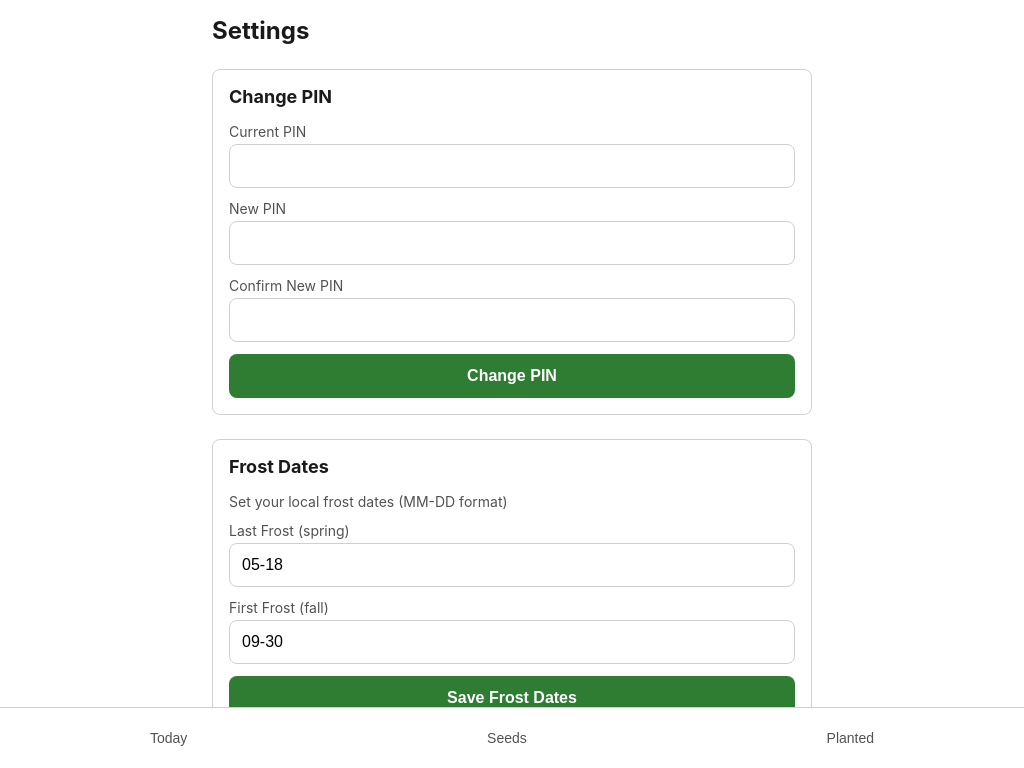
Settings page › rejects PIN change when new PINs don't match
Check: the heading "Settings" is shown, box x1=212 y1=16 x2=309 y2=45
In the password field labelled "Current PIN": (512, 166) x1=229 y1=144 x2=795 y2=188, type "1701"
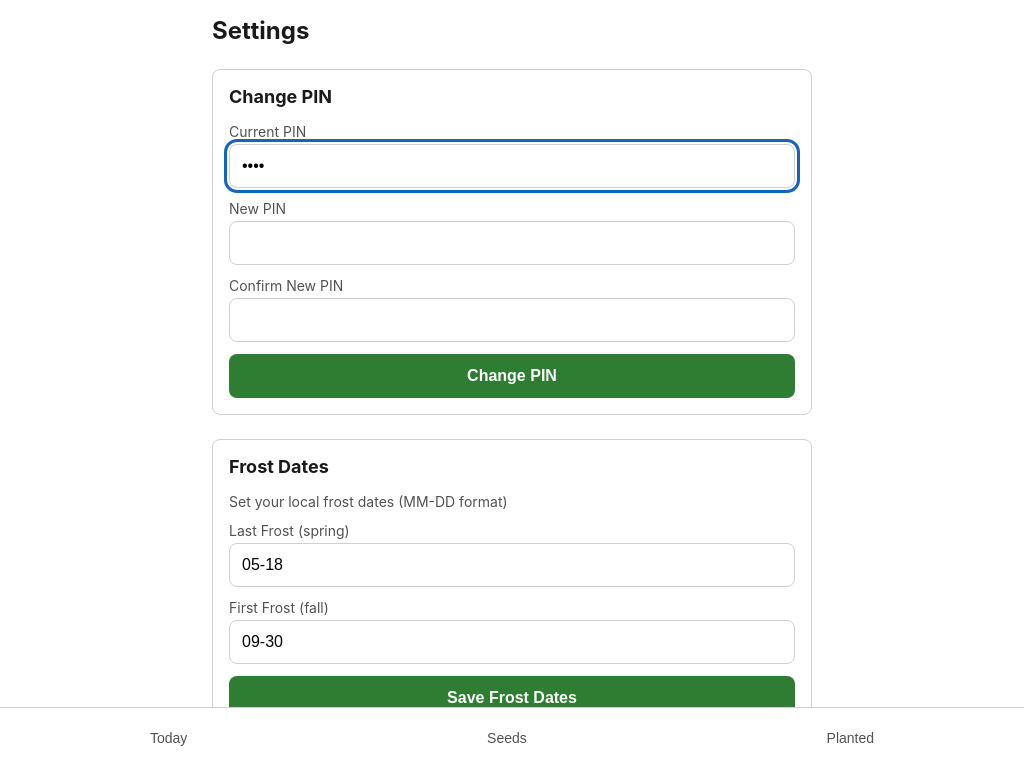
In the password field labelled "New PIN": (512, 243) x1=229 y1=221 x2=795 y2=265, type "9999"
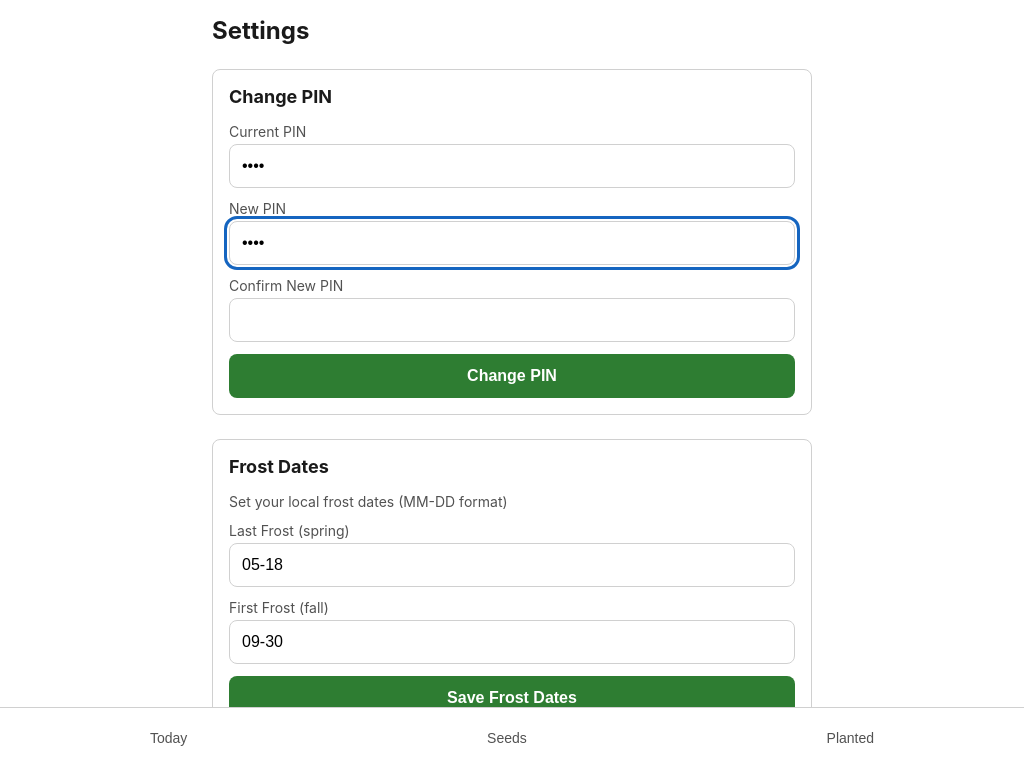
In the password field labelled "Confirm New PIN": (512, 320) x1=229 y1=298 x2=795 y2=342, type "1111"
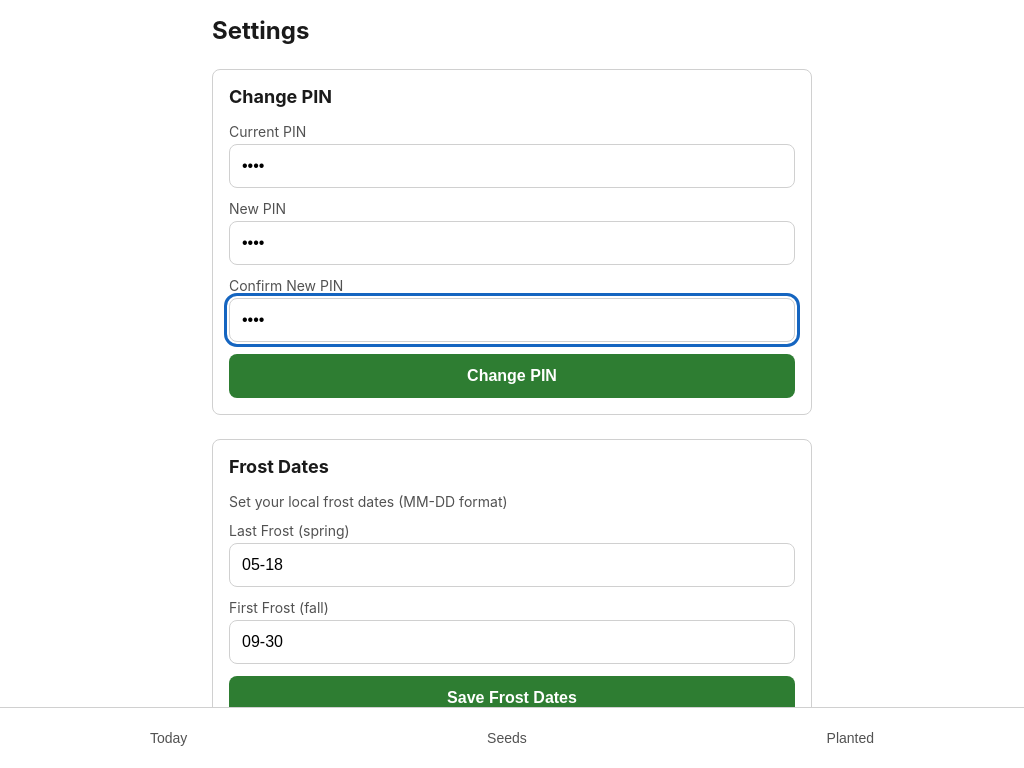
Click the button "Change PIN": (512, 376) x1=229 y1=354 x2=795 y2=398
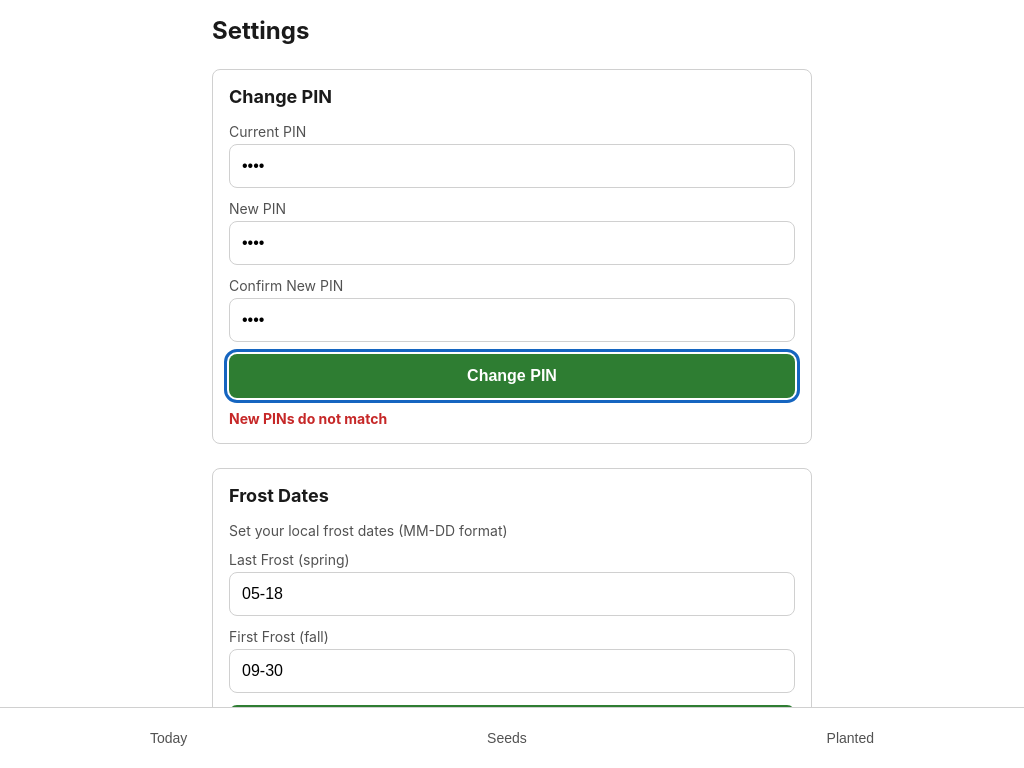
Check: the message reads "New PINs do not match", box x1=229 y1=410 x2=387 y2=427
